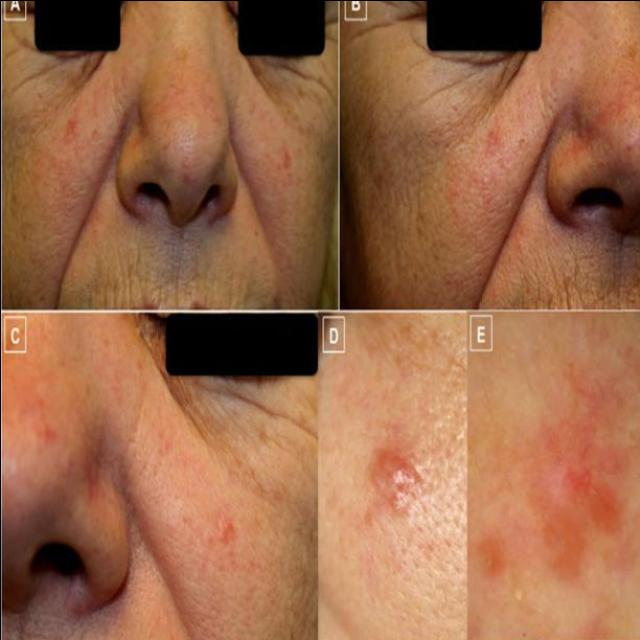papule: (545, 416, 637, 534), (366, 440, 434, 532), (539, 492, 594, 586), (470, 528, 521, 593), (55, 84, 90, 151), (36, 397, 65, 461), (478, 104, 504, 172), (211, 507, 242, 558), (277, 124, 298, 184)
